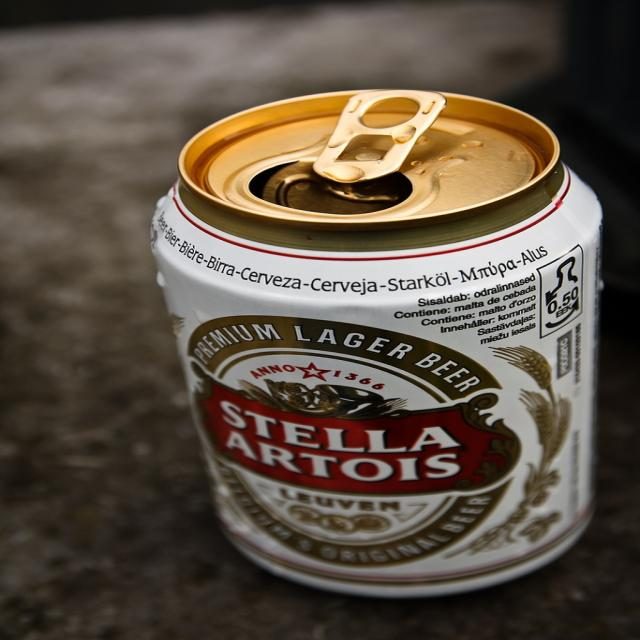stellaartois: (185, 315, 527, 569)
